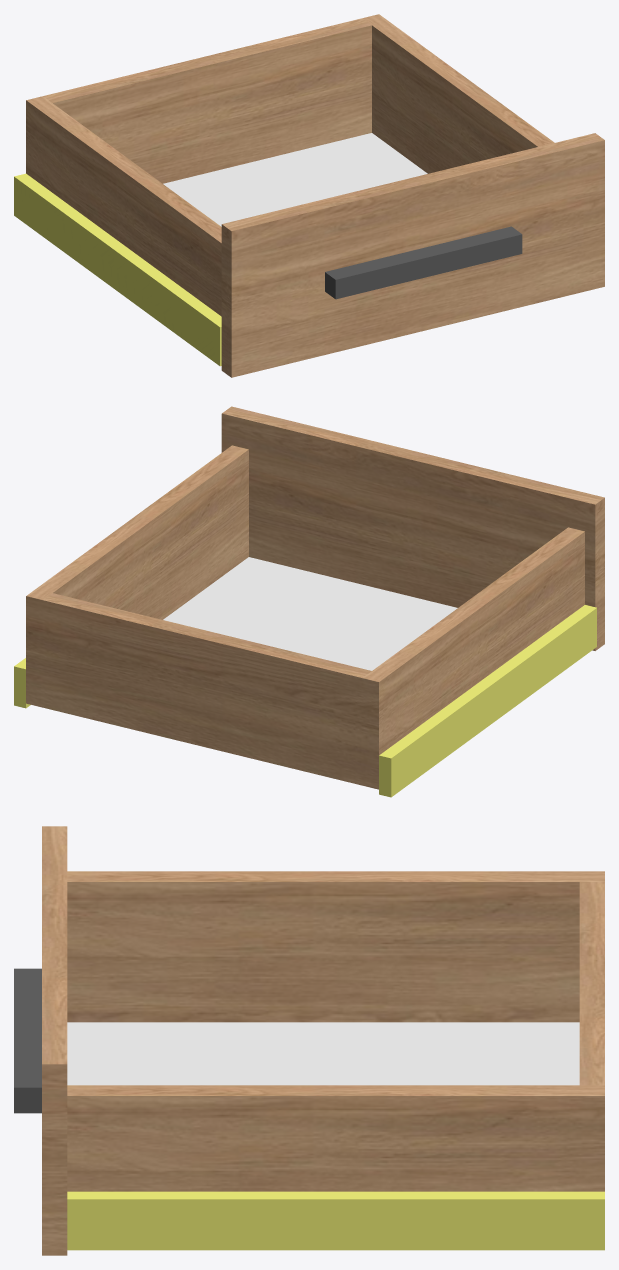
Rendered from drawer_box.glb.
3 renders of one model, top to bottom at view 1: azimuth 30°, elevation 25°; view 2: azimuth 150°, elevation 25°; view 3: azimuth 270°, elevation 25°, orthographic. The views are drawn at different scales.
Parts seen in each view (by area): view 1: Material2 (×3), Material3; view 2: Material2 (×3); view 3: Material2 (×3), Material3.
Part boxes in pixels (x1,y1,x2,y2): Material2 (×3): [14, 14, 604, 377]; Material3: [325, 226, 522, 299]; Material2 (×3): [14, 406, 604, 797]; Material2 (×3): [42, 826, 604, 1255]; Material3: [14, 968, 41, 1113].
Size of the model in its own units: 15.91 by 5.91 by 16.54.
5 materials, 2 textured.
